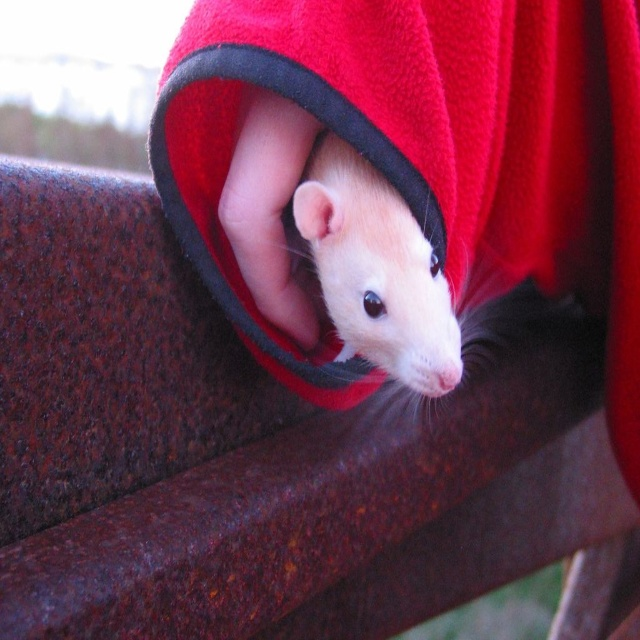Mouse: (269, 128, 472, 419)
